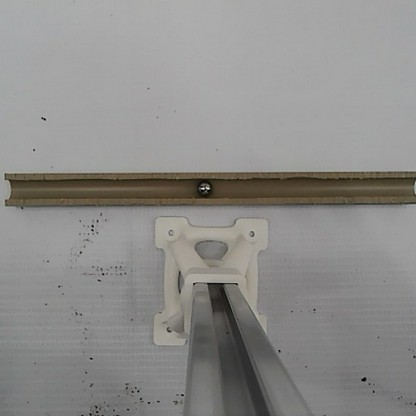ironball: (193, 177, 216, 201)
